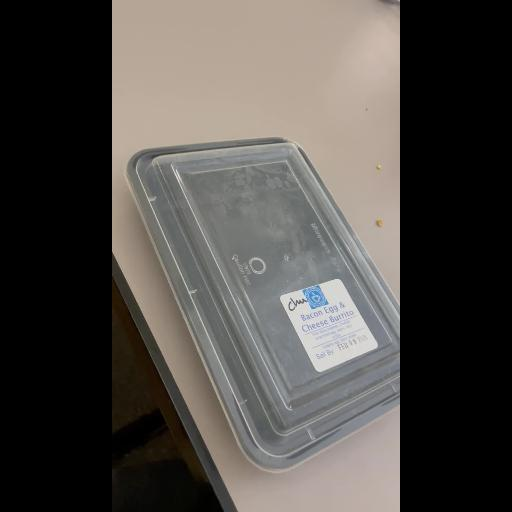rigid_plastic_container: (122, 129, 400, 479)
